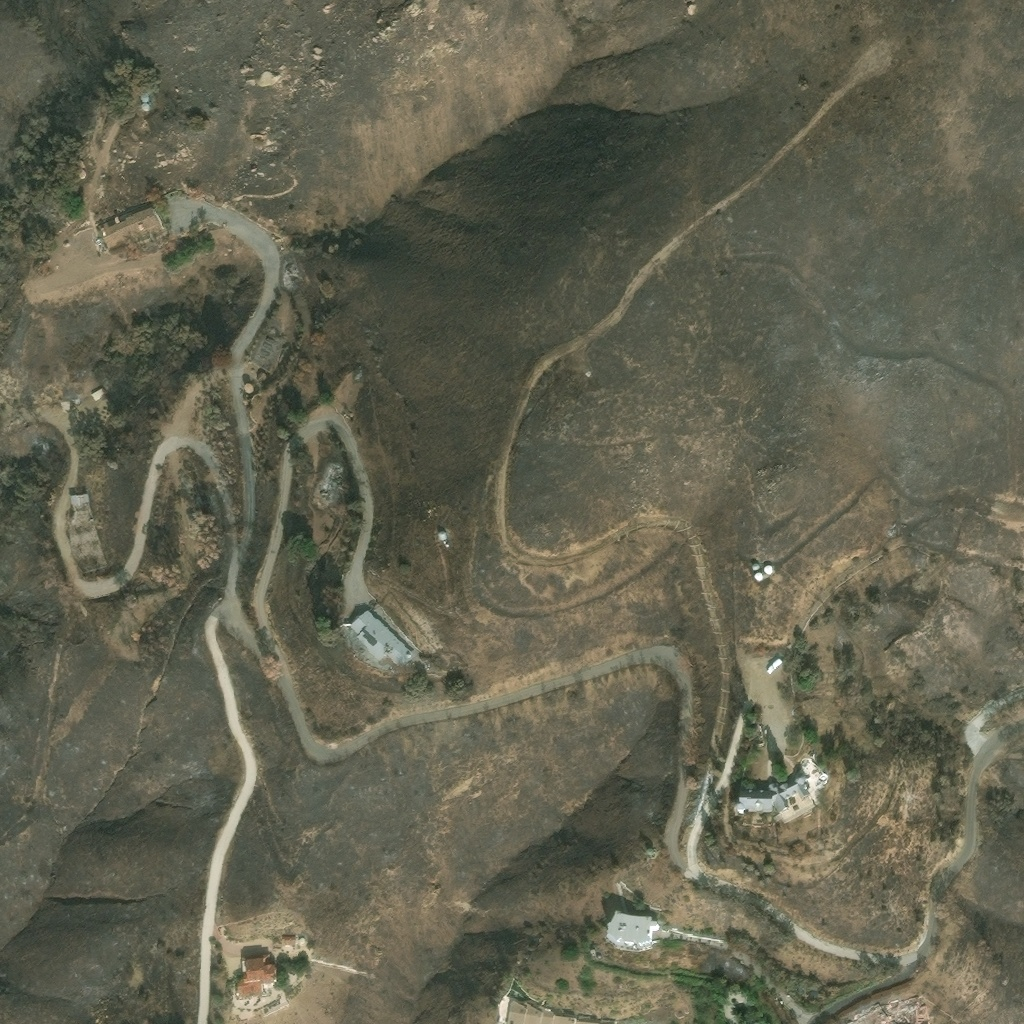0 no-damage: (734, 757, 830, 825), (100, 207, 165, 258), (497, 995, 615, 1023), (603, 910, 660, 949), (235, 959, 276, 998), (71, 492, 89, 506), (91, 386, 106, 400), (256, 368, 269, 384), (243, 382, 254, 394), (760, 565, 773, 575), (437, 529, 447, 540), (283, 936, 294, 945), (140, 93, 149, 103), (753, 573, 763, 582), (75, 170, 85, 179), (140, 104, 149, 112), (750, 563, 759, 571)
1 minor-damage: (343, 609, 414, 669)
3 destroyed: (847, 996, 930, 1023), (250, 320, 281, 368), (312, 462, 341, 499), (885, 527, 898, 537)
